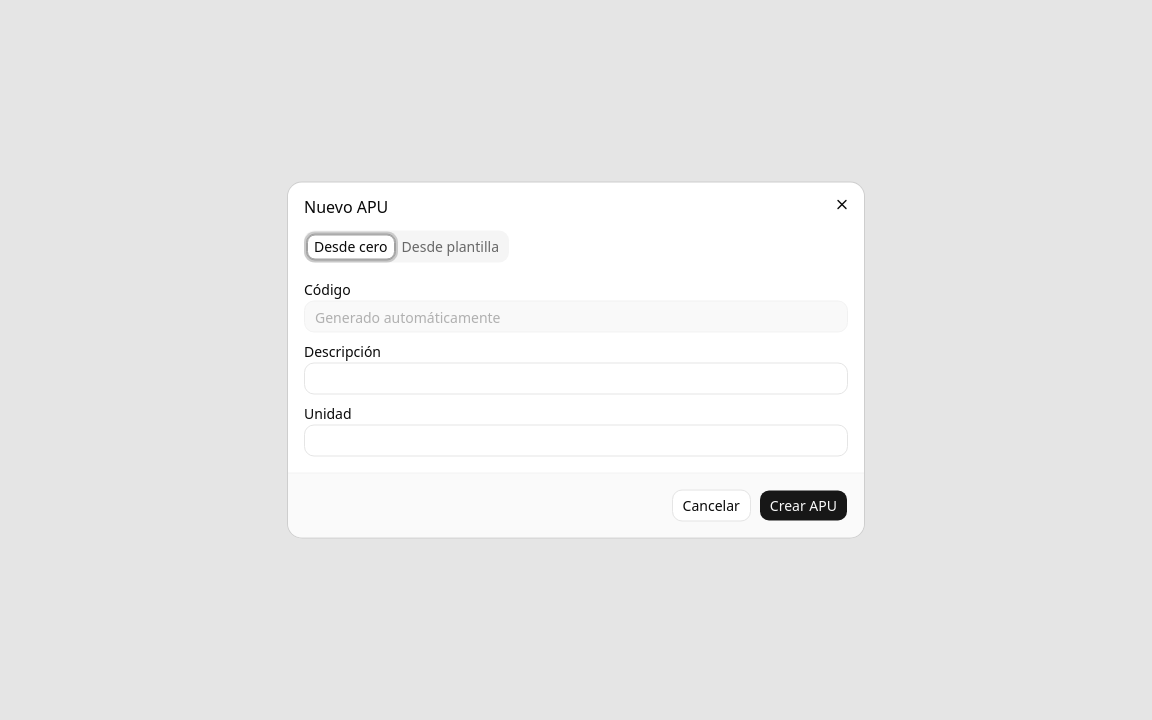
DialogoNuevoApu › renders template list without crashing
Click the tab "Desde plantilla". click: click(450, 246)
box: left=395, top=234, right=506, bottom=259
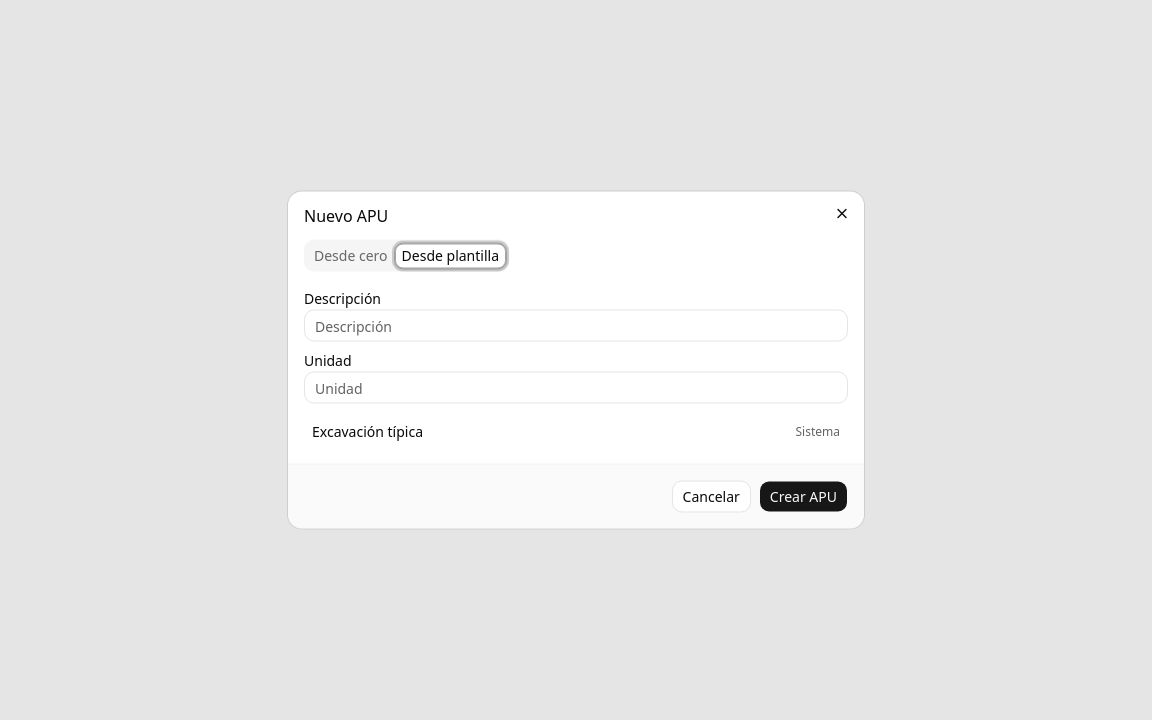
Expected: the text "Excavación típica" is shown, left=312, top=422, right=423, bottom=442
